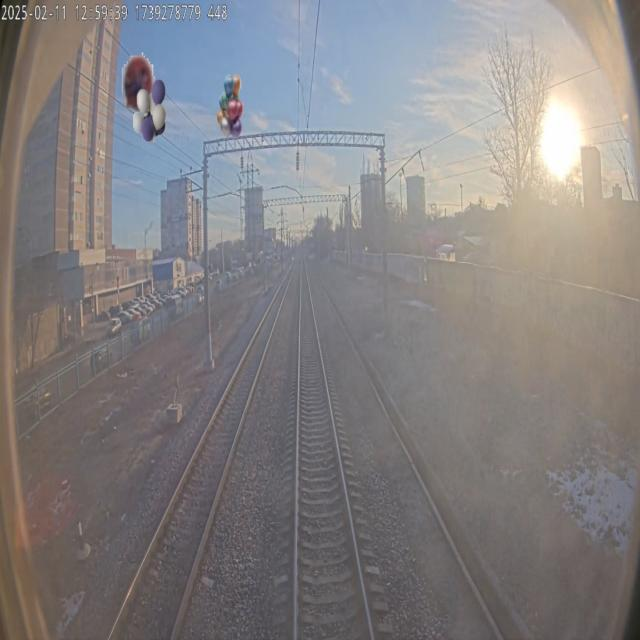balloon: (133, 78, 166, 142), (217, 74, 243, 138)
floating object: (122, 47, 154, 111)
